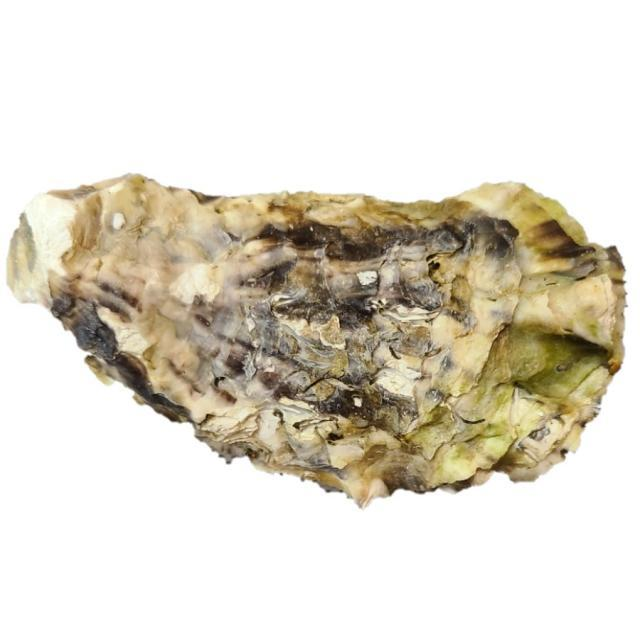Oyster- Indeterminate: (4, 162, 632, 512)
